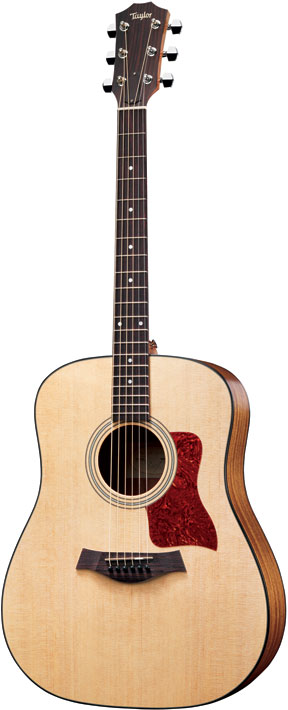guitar: (3, 2, 288, 707)
